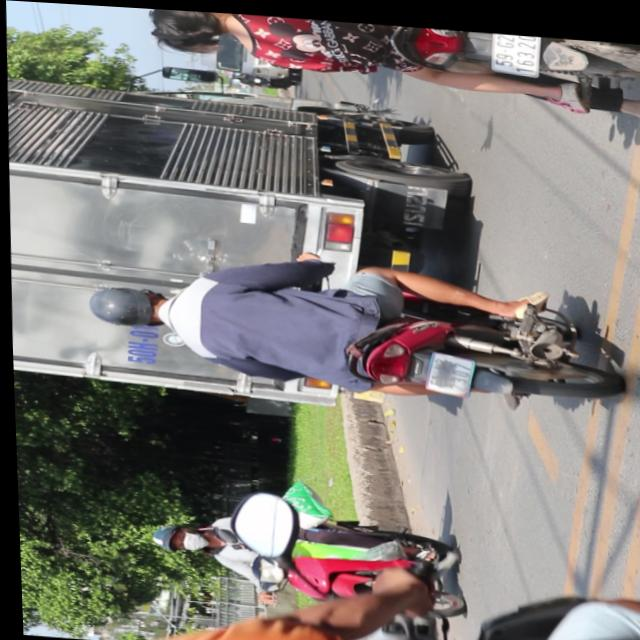helmet: (81, 279, 171, 332), (145, 519, 216, 553)
licenseplate: (75, 235, 625, 422), (138, 6, 640, 117), (142, 471, 461, 612)
motorcyclist: (145, 7, 238, 55)
nohelmet: (489, 26, 541, 69), (420, 347, 470, 390)
